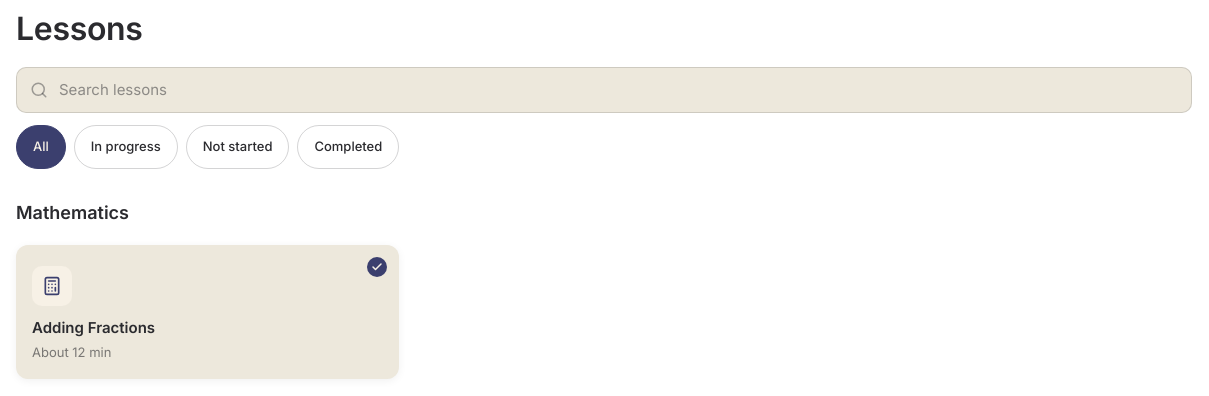
Test case: the empty state names what is actually narrowing the list › says the Not started chip's own line when it empties the list
Click the button "Not started" at (238, 147), box top-left (186, 125), bottom-right (290, 169)
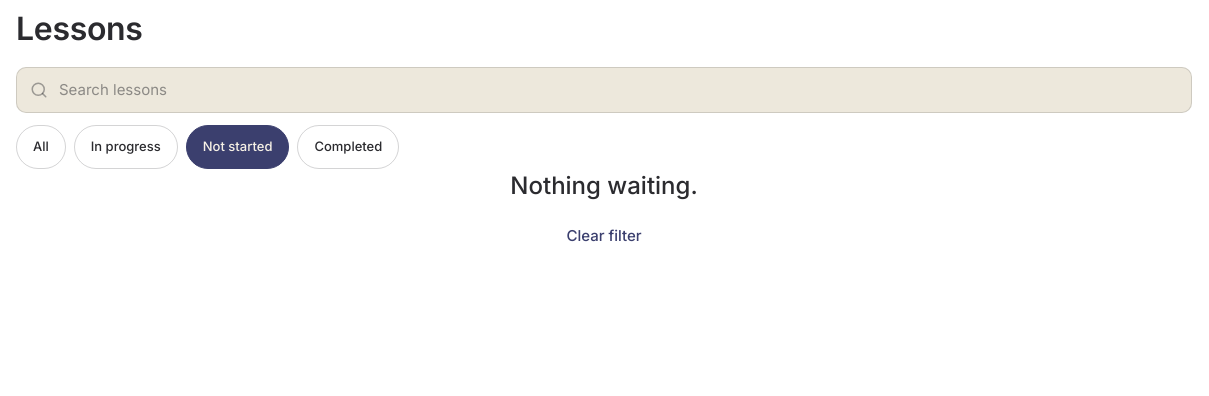
Now the heading "Nothing waiting." is shown, box top-left (510, 170), bottom-right (698, 203)
Now the button "Clear filter" is shown, box top-left (546, 225), bottom-right (662, 247)
